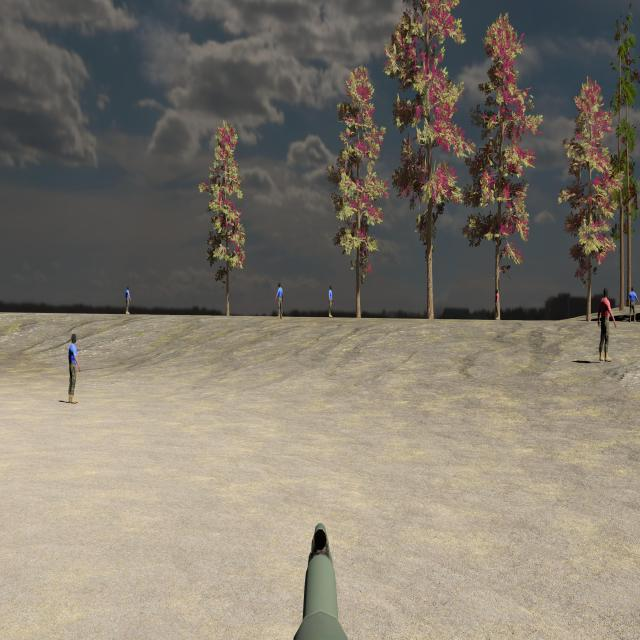Human: (598, 286, 616, 362), (68, 332, 80, 404), (627, 286, 639, 323), (276, 282, 285, 320), (328, 284, 335, 319)
